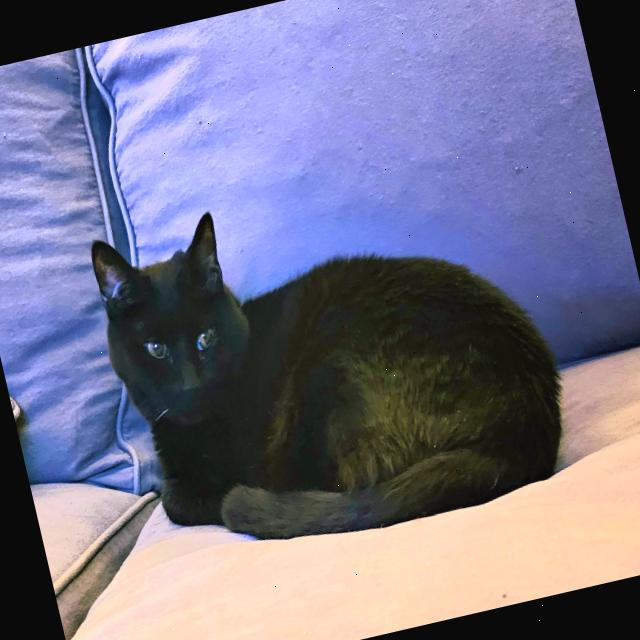bombay_cat: (80, 204, 274, 454)
